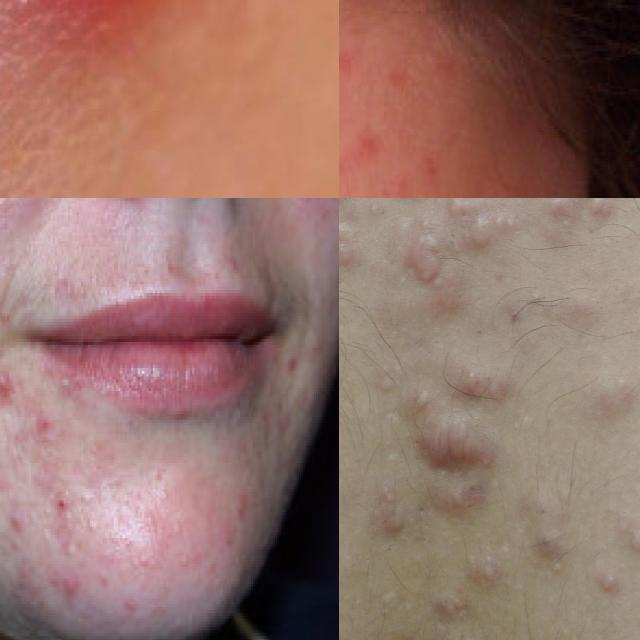keloid: (411, 410, 499, 474), (398, 225, 449, 289)
